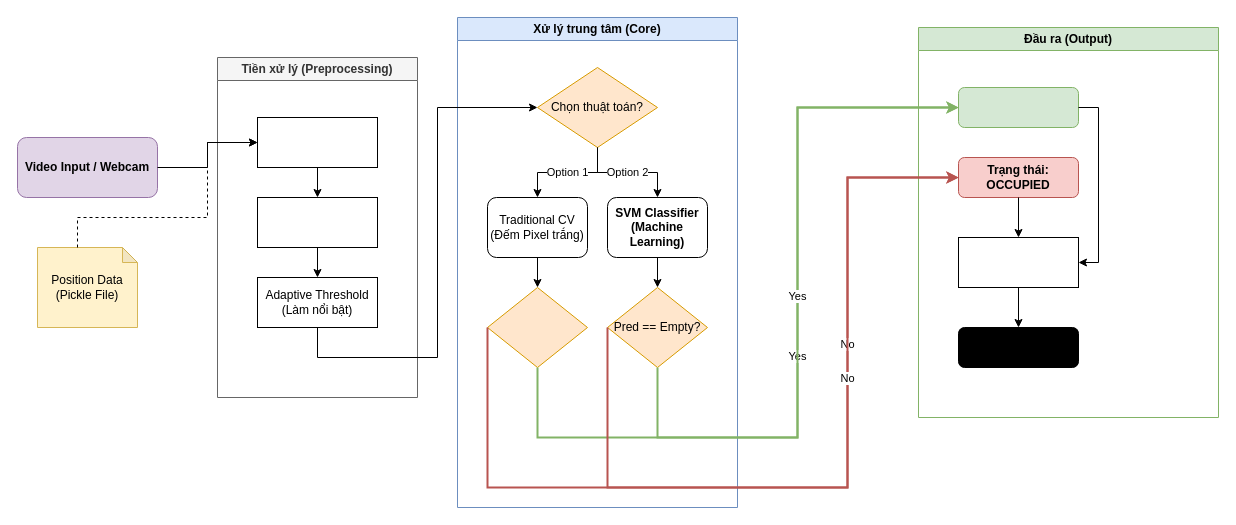
This 1236x525 diagram has some shape labels left out. Here are the shapes that lost their labels. From the top down, the centre of each, then its label:
the point at 1018,107: Trạng thái: EMPTY
the point at 317,142: Extract ROI (Cắt vùng ô đỗ)
the point at 317,222: Grayscale
the point at 1018,262: Vẽ khung màu (Xanh/Đỏ)
the point at 537,327: Ratio < 0.22?
the point at 1018,347: Display Screen
